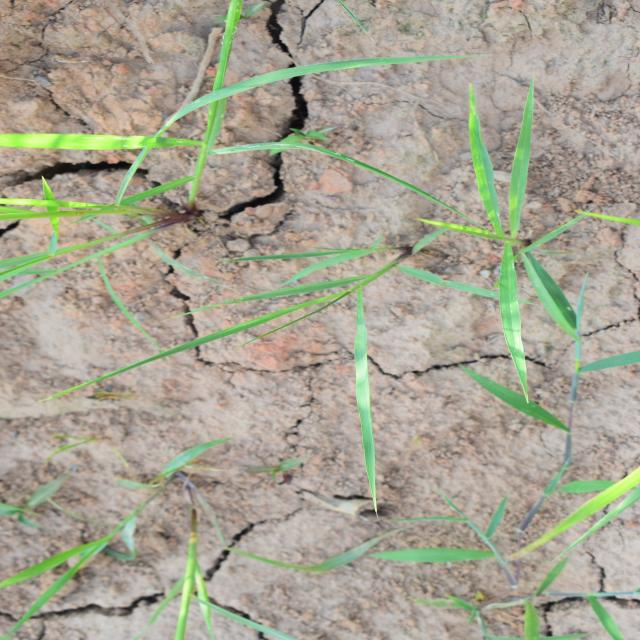green_foxtail: (176, 162, 429, 441), (282, 448, 537, 590)
